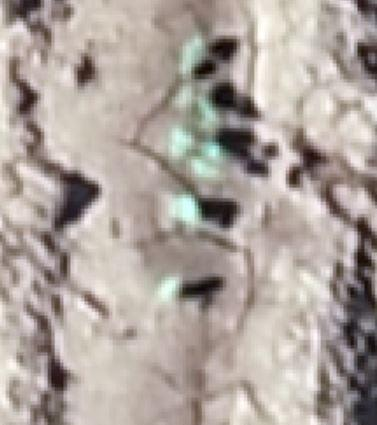cotton: (171, 128, 192, 155), (184, 39, 208, 60), (180, 198, 200, 221), (202, 99, 219, 123), (196, 161, 217, 180), (205, 143, 226, 159), (163, 278, 180, 295)
